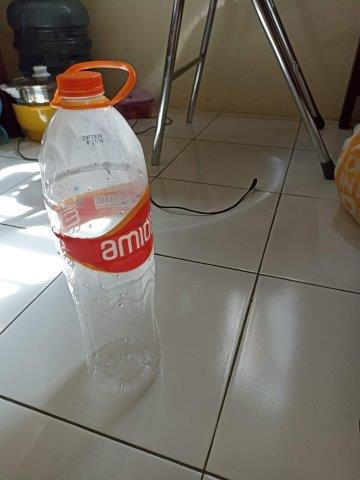botolplastik: (40, 72, 163, 396)
